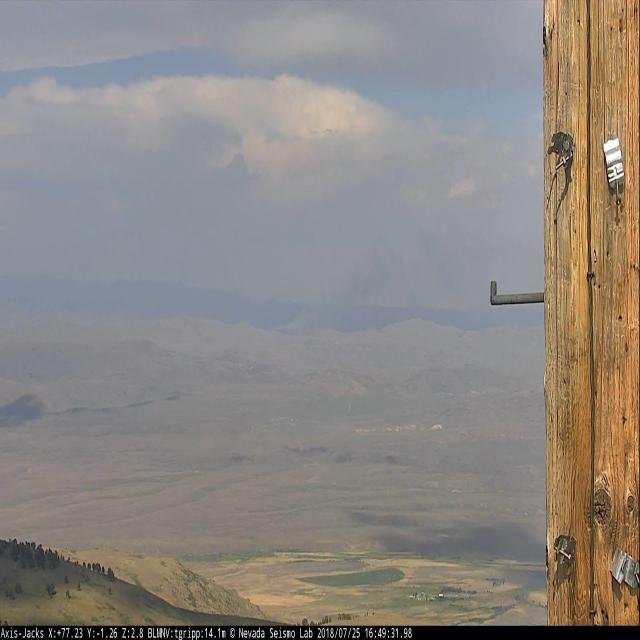smoke: (272, 242, 401, 335)
